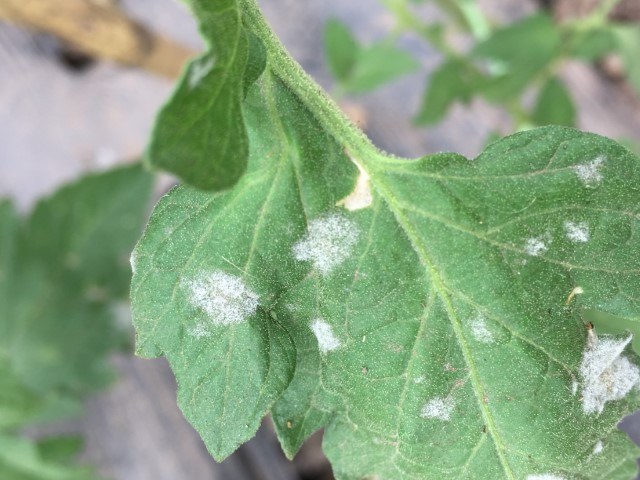oidio: (570, 322, 640, 417), (177, 268, 261, 337), (288, 211, 364, 280), (305, 315, 345, 361), (570, 153, 608, 192), (467, 308, 499, 348), (418, 392, 459, 422), (562, 218, 591, 246), (525, 230, 554, 258), (583, 440, 611, 463), (525, 470, 571, 480), (129, 248, 137, 275)
